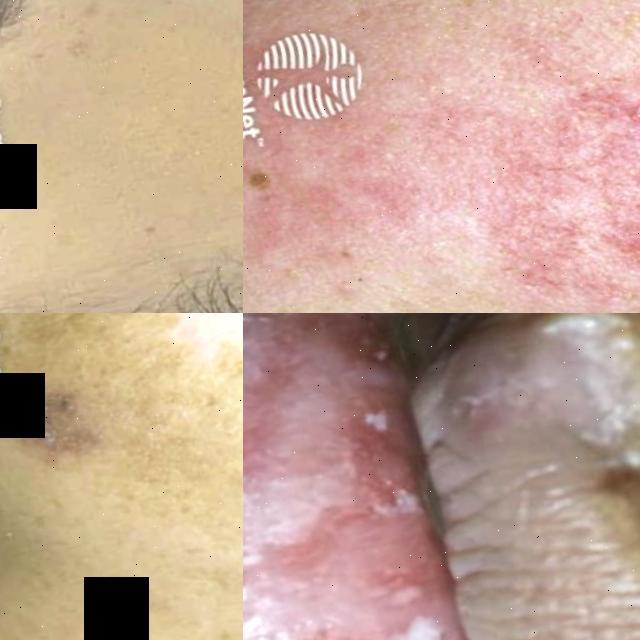lupus-detected: (243, 313, 640, 640), (243, 26, 467, 313), (441, 0, 640, 313), (0, 313, 243, 561)
